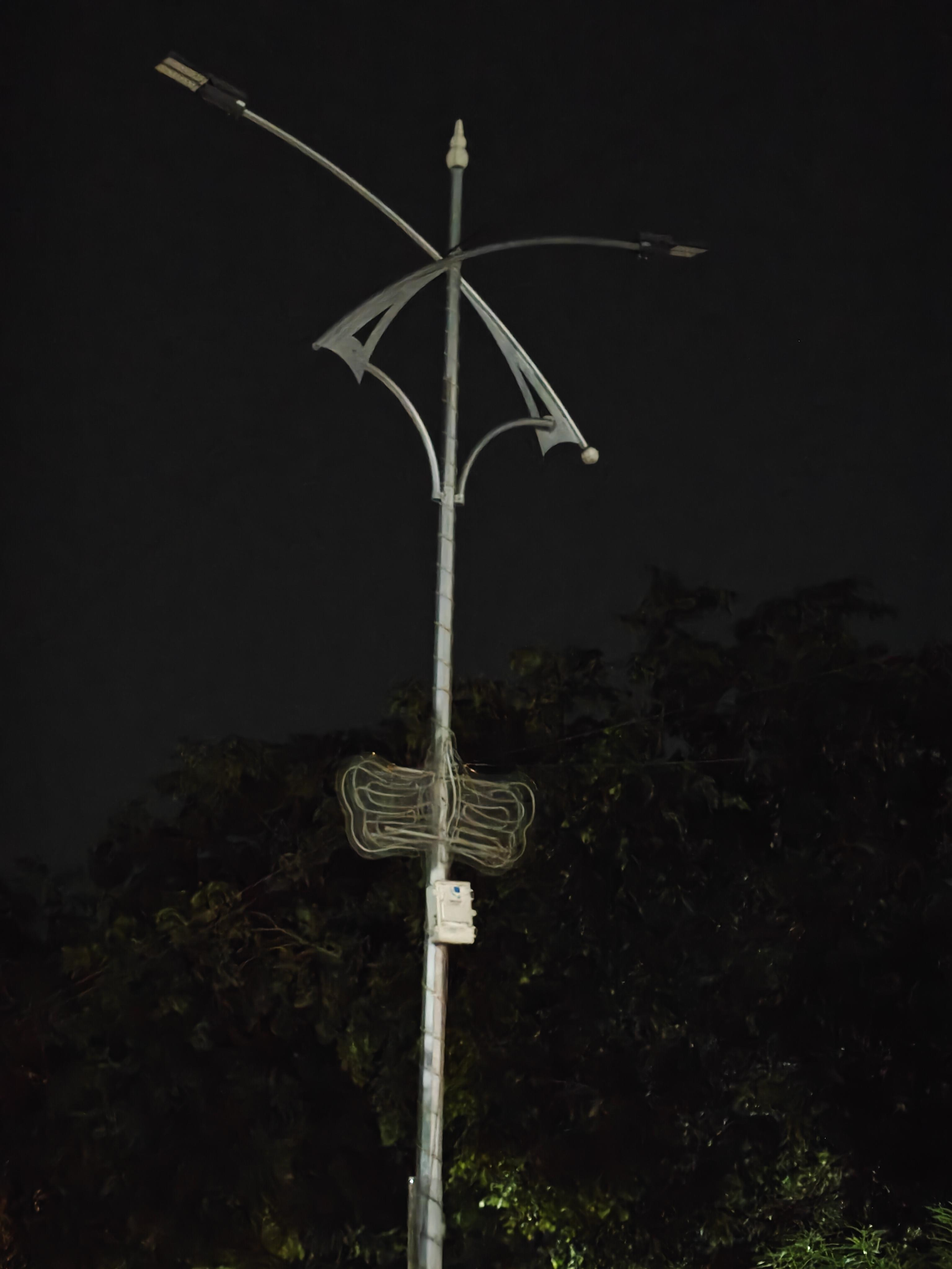streetlight: (152, 46, 432, 261), (478, 220, 710, 275)
